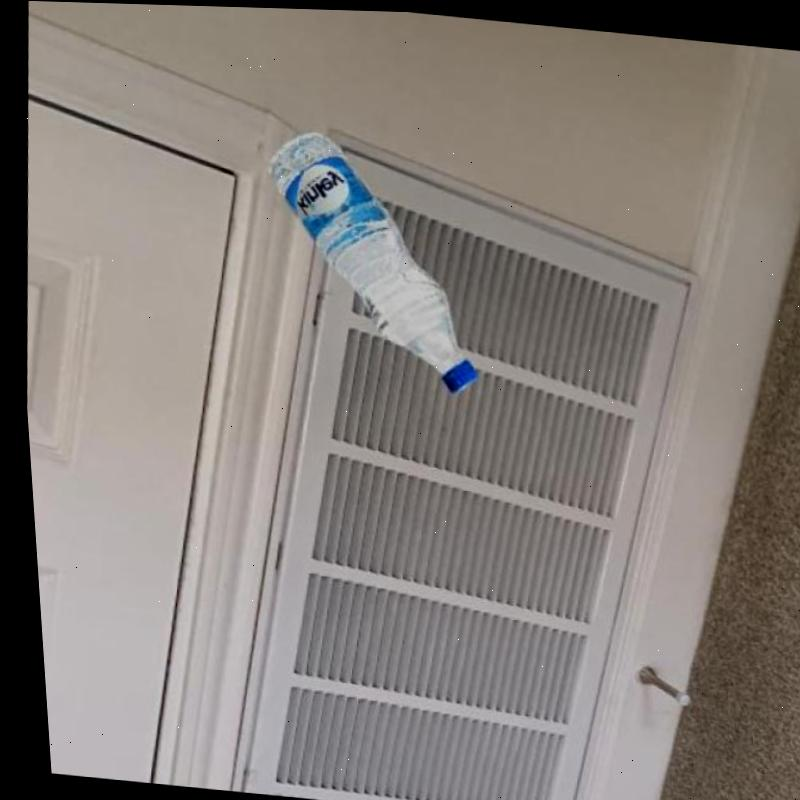botella: (246, 124, 491, 393)
